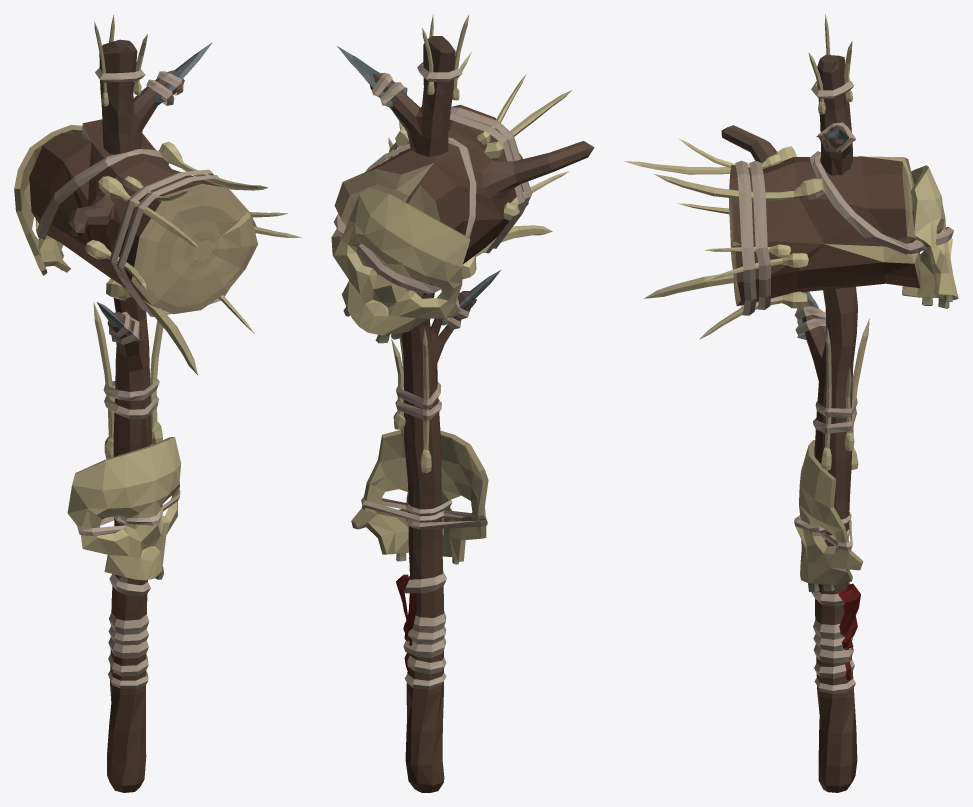
Rendered from bluntHeavyTribeHammer.glb.
3 views of the same model, side by side, from view 1: azimuth 30°, elevation 25°; view 2: azimuth 150°, elevation 25°; view 3: azimuth 270°, elevation 25° (orthographic). The views are drawn at different scales.
Parts seen in each view (by area): view 1: bluntHeavyTribeHammer; view 2: bluntHeavyTribeHammer; view 3: bluntHeavyTribeHammer.
Part boxes in pixels (bbox=[...]): bluntHeavyTribeHammer: bbox=[14, 15, 301, 792]; bluntHeavyTribeHammer: bbox=[331, 14, 594, 792]; bluntHeavyTribeHammer: bbox=[624, 14, 958, 792].
Bounding box in the file's own units: 0.3353 × 1.15 × 0.4621.
